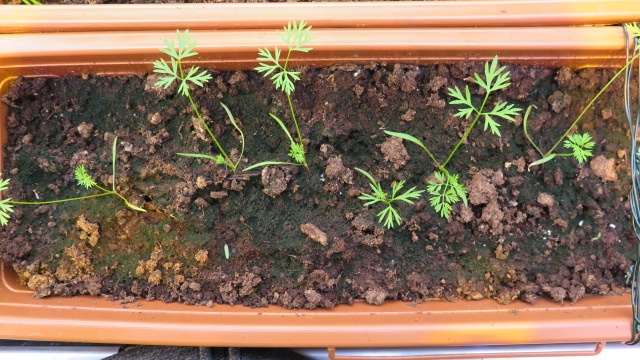crop: (428, 55, 524, 217), (153, 25, 245, 179), (1, 136, 147, 223), (253, 17, 319, 178), (528, 88, 620, 174), (348, 166, 426, 230)
weed: (591, 232, 603, 242)
